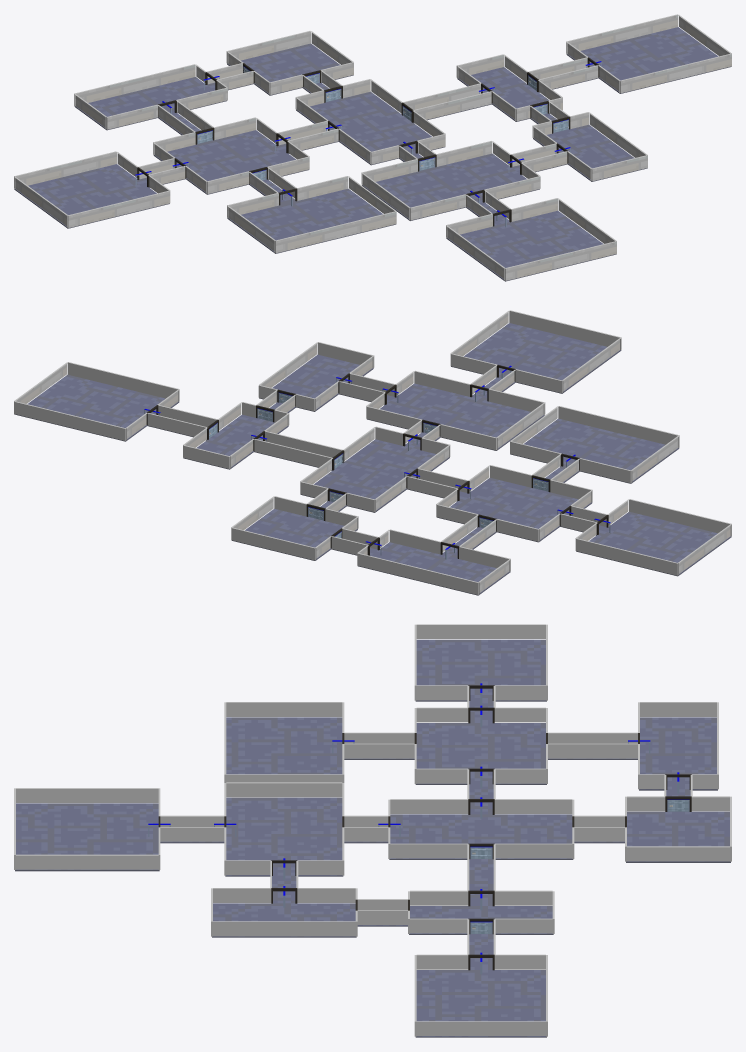
The model's file is dungeon-dungeon-00019919-hub.glb.
3 renders of one model, top to bottom at view 1: azimuth 30°, elevation 25°; view 2: azimuth 150°, elevation 25°; view 3: azimuth 270°, elevation 25°, orthographic. The views are drawn at different scales.
Parts seen in each view (by area): view 1: module-room-8-floor, module-room-2-floor, module-room-10-floor, module-room-6-floor, module-room-0-floor, module-room-5-floor, module-room-1-floor, module-room-7-floor, module-room-4-floor, module-room-9-floor, module-room-6-south-wall-0, module-room-3-floor (+41 smaller); view 2: module-room-8-floor, module-room-2-floor, module-room-10-floor, module-room-6-floor, module-room-0-floor, module-room-5-floor, module-room-1-floor, module-room-7-floor, module-room-4-floor, module-room-9-floor, module-room-3-floor, module-room-7-north-wall-0 (+40 smaller); view 3: module-room-2-floor, module-room-8-floor, module-room-10-floor, module-room-6-floor, module-room-5-floor, module-room-1-floor, module-room-0-floor, module-room-7-floor, module-room-4-floor, module-room-9-floor, module-room-8-east-wall-0, module-room-9-east-wall-0 (+40 smaller).
Part boxes in pixels (box(x1,y1,x2,y2)): module-room-8-floor: box(446, 210, 616, 281); module-room-2-floor: box(362, 153, 539, 220); module-room-10-floor: box(566, 27, 731, 93); module-room-6-floor: box(227, 188, 396, 253); module-room-0-floor: box(296, 91, 444, 165); module-room-5-floor: box(14, 164, 169, 228); module-room-1-floor: box(153, 130, 309, 194); module-room-7-floor: box(74, 77, 226, 130); module-room-4-floor: box(227, 43, 353, 95); module-room-9-floor: box(533, 124, 647, 181); module-room-6-south-wall-0: box(275, 211, 396, 253); module-room-3-floor: box(457, 67, 549, 121); module-room-8-floor: box(451, 323, 621, 393); module-room-2-floor: box(367, 383, 544, 450); module-room-10-floor: box(14, 374, 179, 441); module-room-6-floor: box(510, 418, 679, 483); module-room-0-floor: box(300, 439, 449, 512); module-room-5-floor: box(576, 511, 731, 576); module-room-1-floor: box(436, 478, 592, 542); module-room-7-floor: box(358, 542, 510, 595); module-room-4-floor: box(232, 508, 357, 560); module-room-9-floor: box(259, 354, 373, 411); module-room-3-floor: box(183, 414, 288, 469); module-room-7-north-wall-0: box(357, 553, 478, 594); module-room-2-floor: box(225, 797, 343, 876); module-room-8-floor: box(15, 803, 159, 871); module-room-10-floor: box(415, 970, 546, 1037); module-room-6-floor: box(226, 717, 342, 774); module-room-5-floor: box(415, 639, 546, 701); module-room-1-floor: box(415, 723, 546, 784); module-room-0-floor: box(389, 814, 573, 859); module-room-7-floor: box(639, 717, 717, 790); module-room-4-floor: box(626, 811, 730, 862); module-room-9-floor: box(212, 903, 356, 937); module-room-8-east-wall-0: box(16, 854, 158, 869); module-room-9-east-wall-0: box(213, 921, 355, 936).
Bounding box in the file's own units: 143 × 2.7 × 109.
